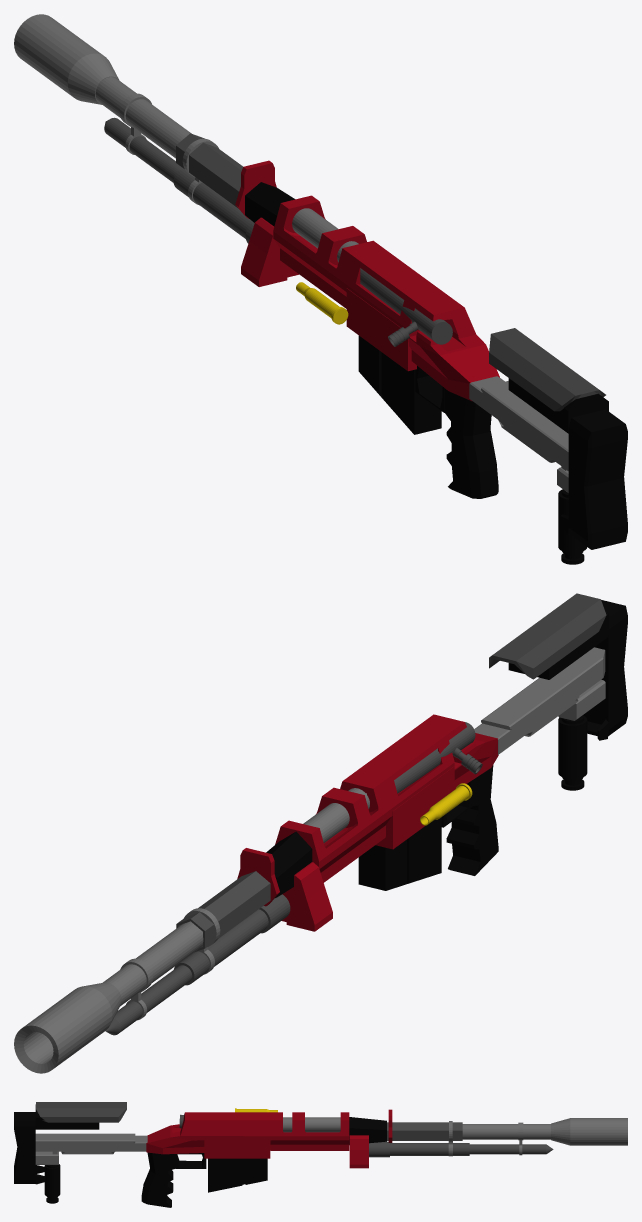
Rendered from Nemesis.fbx.
The picture shows the model from 3 angles, top to bottom: view 1: azimuth 30°, elevation 25°; view 2: azimuth 150°, elevation 25°; view 3: azimuth 270°, elevation 25°; orthographic projection. The views are drawn at different scales.
Visible parts, largest first — view 1: Body, Cube.010, Barrel, Cube.007, Cube.011, Stock, Cube.005, under barrel, Cylinder.004, Cube.004, Cylinder, Cylinder.001 (+4 smaller); view 2: Body, Barrel, Stock, Cube.011, Cube.010, under barrel, Cube.007, Cube.005, Cylinder.004, Cube.004, Cylinder.006, Cylinder (+4 smaller); view 3: Body, Barrel, Stock, Cube.010, under barrel, Cube.007, Cube.011, Cube.005, Cylinder.004, Cylinder.001, Cylinder.002, Cube.004 (+1 smaller).
Boxes of the visible parts, x1=… form: Body: x1=273, y1=195, x2=499, y2=400; Cube.010: x1=508, y1=378, x2=627, y2=549; Barrel: x1=14, y1=14, x2=191, y2=158; Cube.007: x1=415, y1=366, x2=498, y2=498; Cube.011: x1=489, y1=328, x2=605, y2=411; Stock: x1=469, y1=376, x2=568, y2=492; Cube.005: x1=358, y1=335, x2=441, y2=434; under barrel: x1=104, y1=117, x2=254, y2=243; Cylinder.004: x1=176, y1=133, x2=242, y2=208; Cube.004: x1=241, y1=217, x2=298, y2=286; Cylinder: x1=360, y1=268, x2=452, y2=346; Cylinder.001: x1=245, y1=182, x2=295, y2=226; Body: x1=275, y1=714, x2=498, y2=882; Barrel: x1=14, y1=921, x2=203, y2=1073; Stock: x1=474, y1=647, x2=605, y2=754; Cube.011: x1=489, y1=593, x2=606, y2=679; Cube.010: x1=508, y1=600, x2=627, y2=740; under barrel: x1=105, y1=894, x2=290, y2=1035; Cube.007: x1=441, y1=765, x2=498, y2=875; Cube.005: x1=358, y1=817, x2=441, y2=890; Cylinder.004: x1=176, y1=871, x2=270, y2=952; Cube.004: x1=282, y1=862, x2=332, y2=931; Cylinder.006: x1=558, y1=715, x2=587, y2=790; Cylinder: x1=394, y1=722, x2=482, y2=793; Body: x1=146, y1=1112, x2=349, y2=1158; Barrel: x1=462, y1=1118, x2=627, y2=1145; Stock: x1=35, y1=1133, x2=147, y2=1164; Cube.010: x1=14, y1=1104, x2=99, y2=1184; under barrel: x1=369, y1=1141, x2=553, y2=1157; Cube.007: x1=141, y1=1152, x2=206, y2=1207; Cube.011: x1=36, y1=1102, x2=126, y2=1122; Cube.005: x1=208, y1=1158, x2=267, y2=1192; Cylinder.004: x1=387, y1=1122, x2=462, y2=1140; Cylinder.001: x1=349, y1=1117, x2=386, y2=1144; Cylinder.002: x1=283, y1=1117, x2=340, y2=1132; Cube.004: x1=349, y1=1135, x2=368, y2=1168.
Bounding box in the file's own units: 370 × 614 × 3437.
